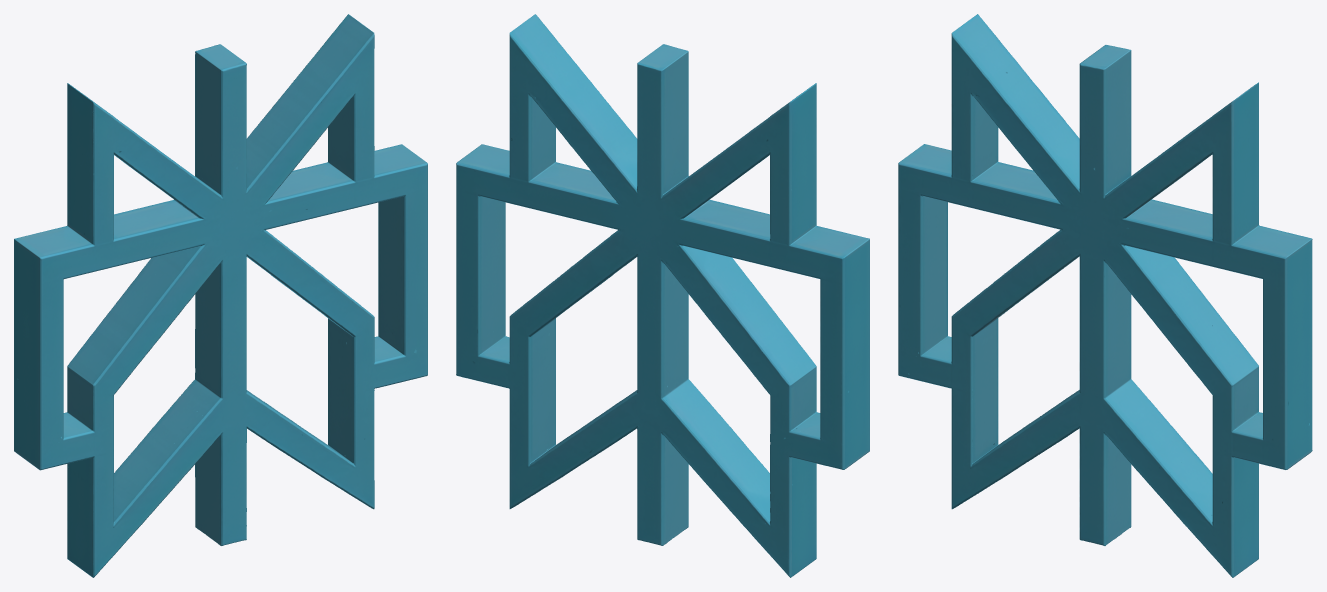
The model's file is perplexity.glb.
3 renders of one model, left to right at view 1: azimuth 30°, elevation 25°; view 2: azimuth 150°, elevation 25°; view 3: azimuth 330°, elevation 25°, orthographic.
Visible parts, largest first — view 1: material.001; view 2: material.001; view 3: material.001.
Boxes of the visible parts, x1,y1,x2,y2 form: material.001: (14, 14, 427, 577); material.001: (456, 14, 869, 577); material.001: (898, 14, 1312, 577).
Size of the model in its own units: 0.864 by 1.02 by 0.1052.
1 material, 1 textured.
